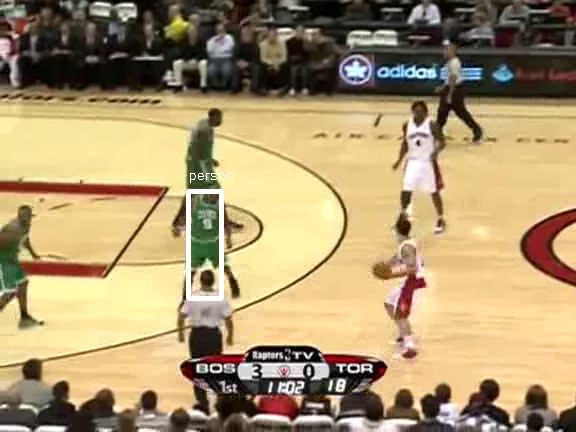person: (190, 193, 224, 274), (189, 193, 223, 274), (191, 193, 225, 274), (190, 192, 224, 273), (190, 194, 224, 275)
target_negative: (123, 218, 479, 429), (33, 284, 516, 377), (242, 145, 296, 349), (303, 275, 393, 340), (437, 148, 454, 423), (566, 336, 572, 361)
